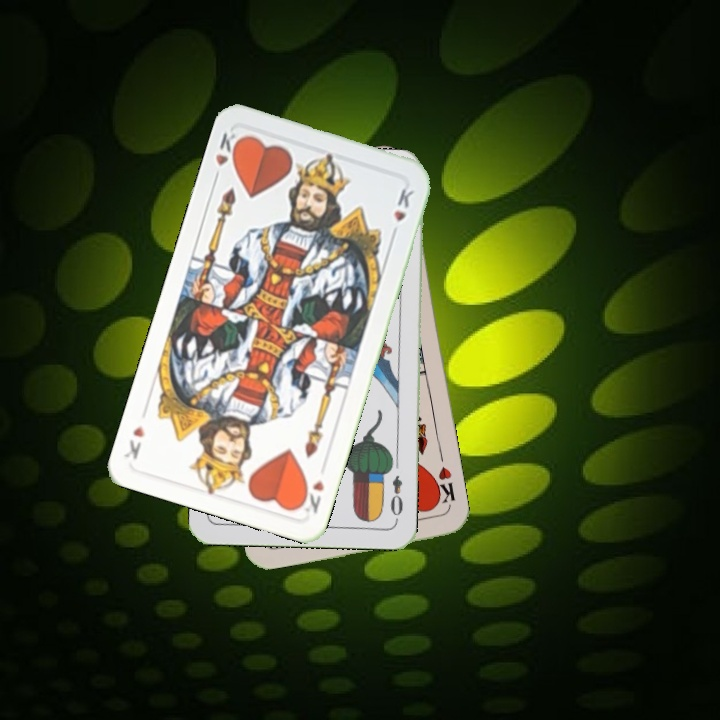EO: (386, 471, 406, 518)
HK: (209, 128, 245, 185), (427, 462, 458, 513), (295, 476, 327, 516)
